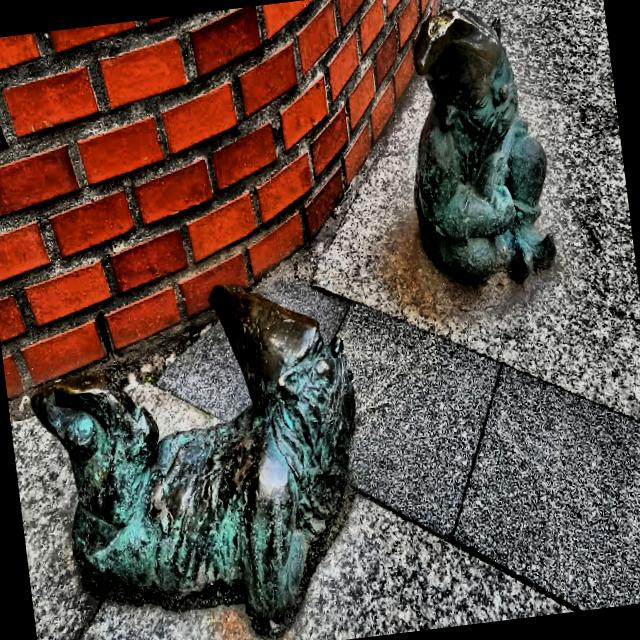Grajek_i_Meloman: (39, 9, 553, 620)
